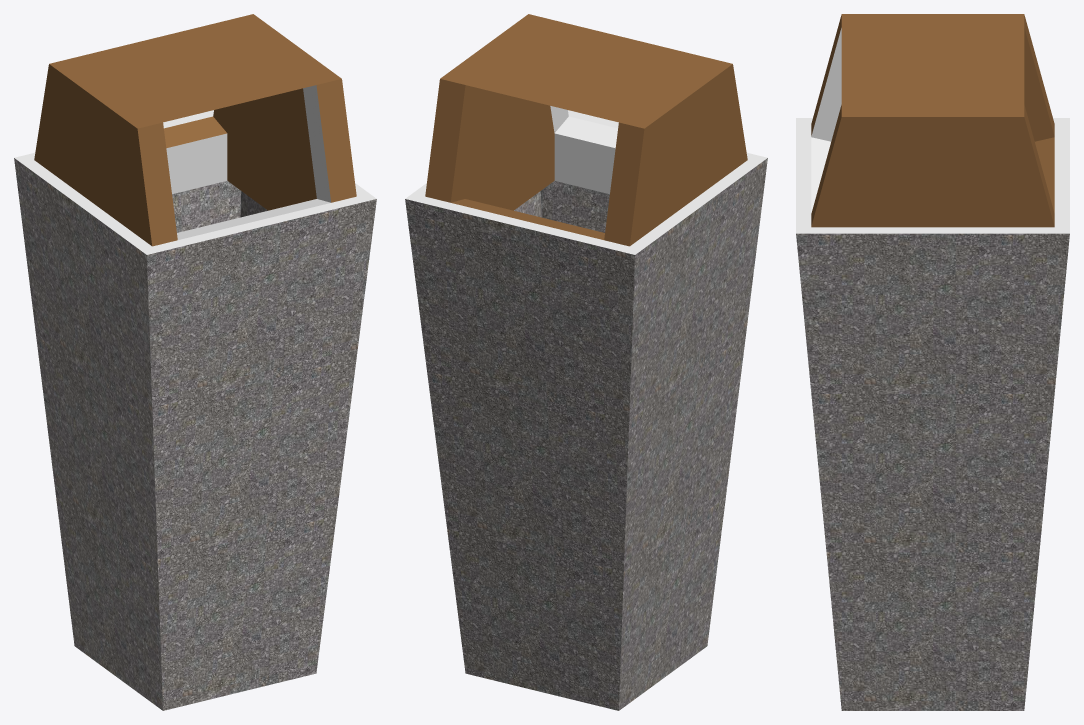
Rendered from trash1.fbx.
The picture shows the model from 3 angles, left to right: view 1: azimuth 30°, elevation 25°; view 2: azimuth 150°, elevation 25°; view 3: azimuth 270°, elevation 25°; orthographic projection. The views are drawn at different scales.
Visible parts, largest first — view 1: Trash_Bin1; view 2: Trash_Bin1; view 3: Trash_Bin1.
Part boxes in pixels (x1,y1,x2,y2): Trash_Bin1: (14, 14, 376, 710); Trash_Bin1: (405, 14, 767, 710); Trash_Bin1: (796, 14, 1069, 710).
Bounding box in the file's own units: 26.1 × 63.8 × 26.1.
